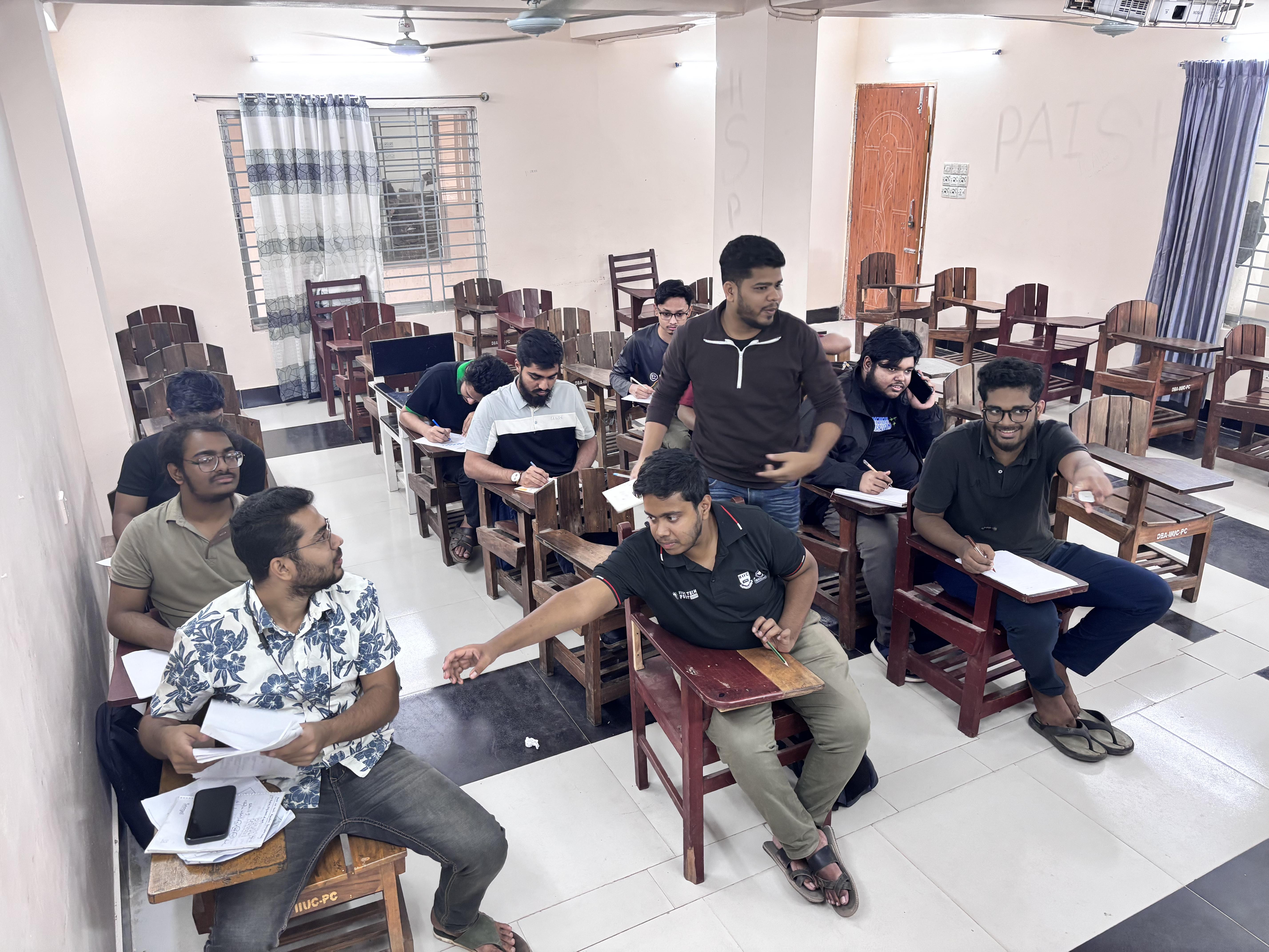exchanging_sheets: (447, 467, 834, 814)
no_cheating: (120, 412, 282, 651), (480, 327, 662, 533), (395, 327, 507, 480), (611, 249, 701, 423)
side_talking: (149, 485, 422, 942)
suspicious_moving: (913, 365, 1161, 672), (635, 218, 858, 503)
using_phone: (831, 318, 968, 501)
